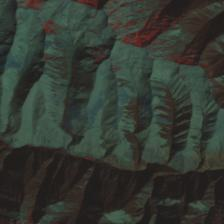landslides: (0, 198, 18, 212), (3, 208, 13, 218)
